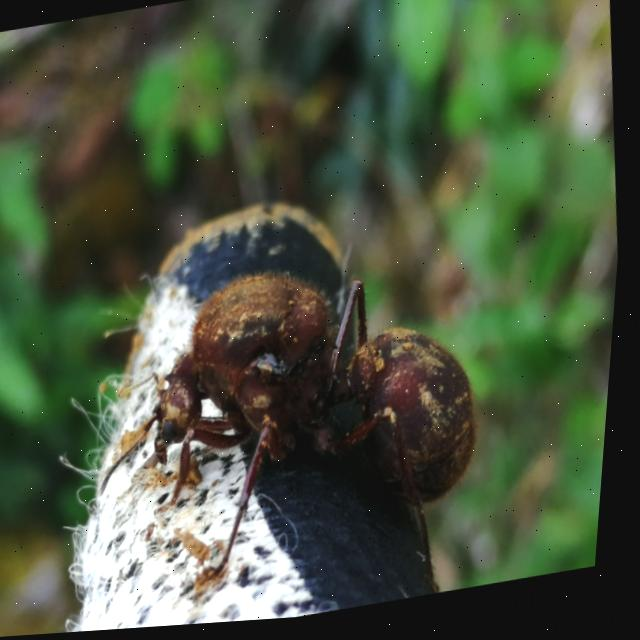Alive-Female-Dealate: (78, 240, 510, 634)
